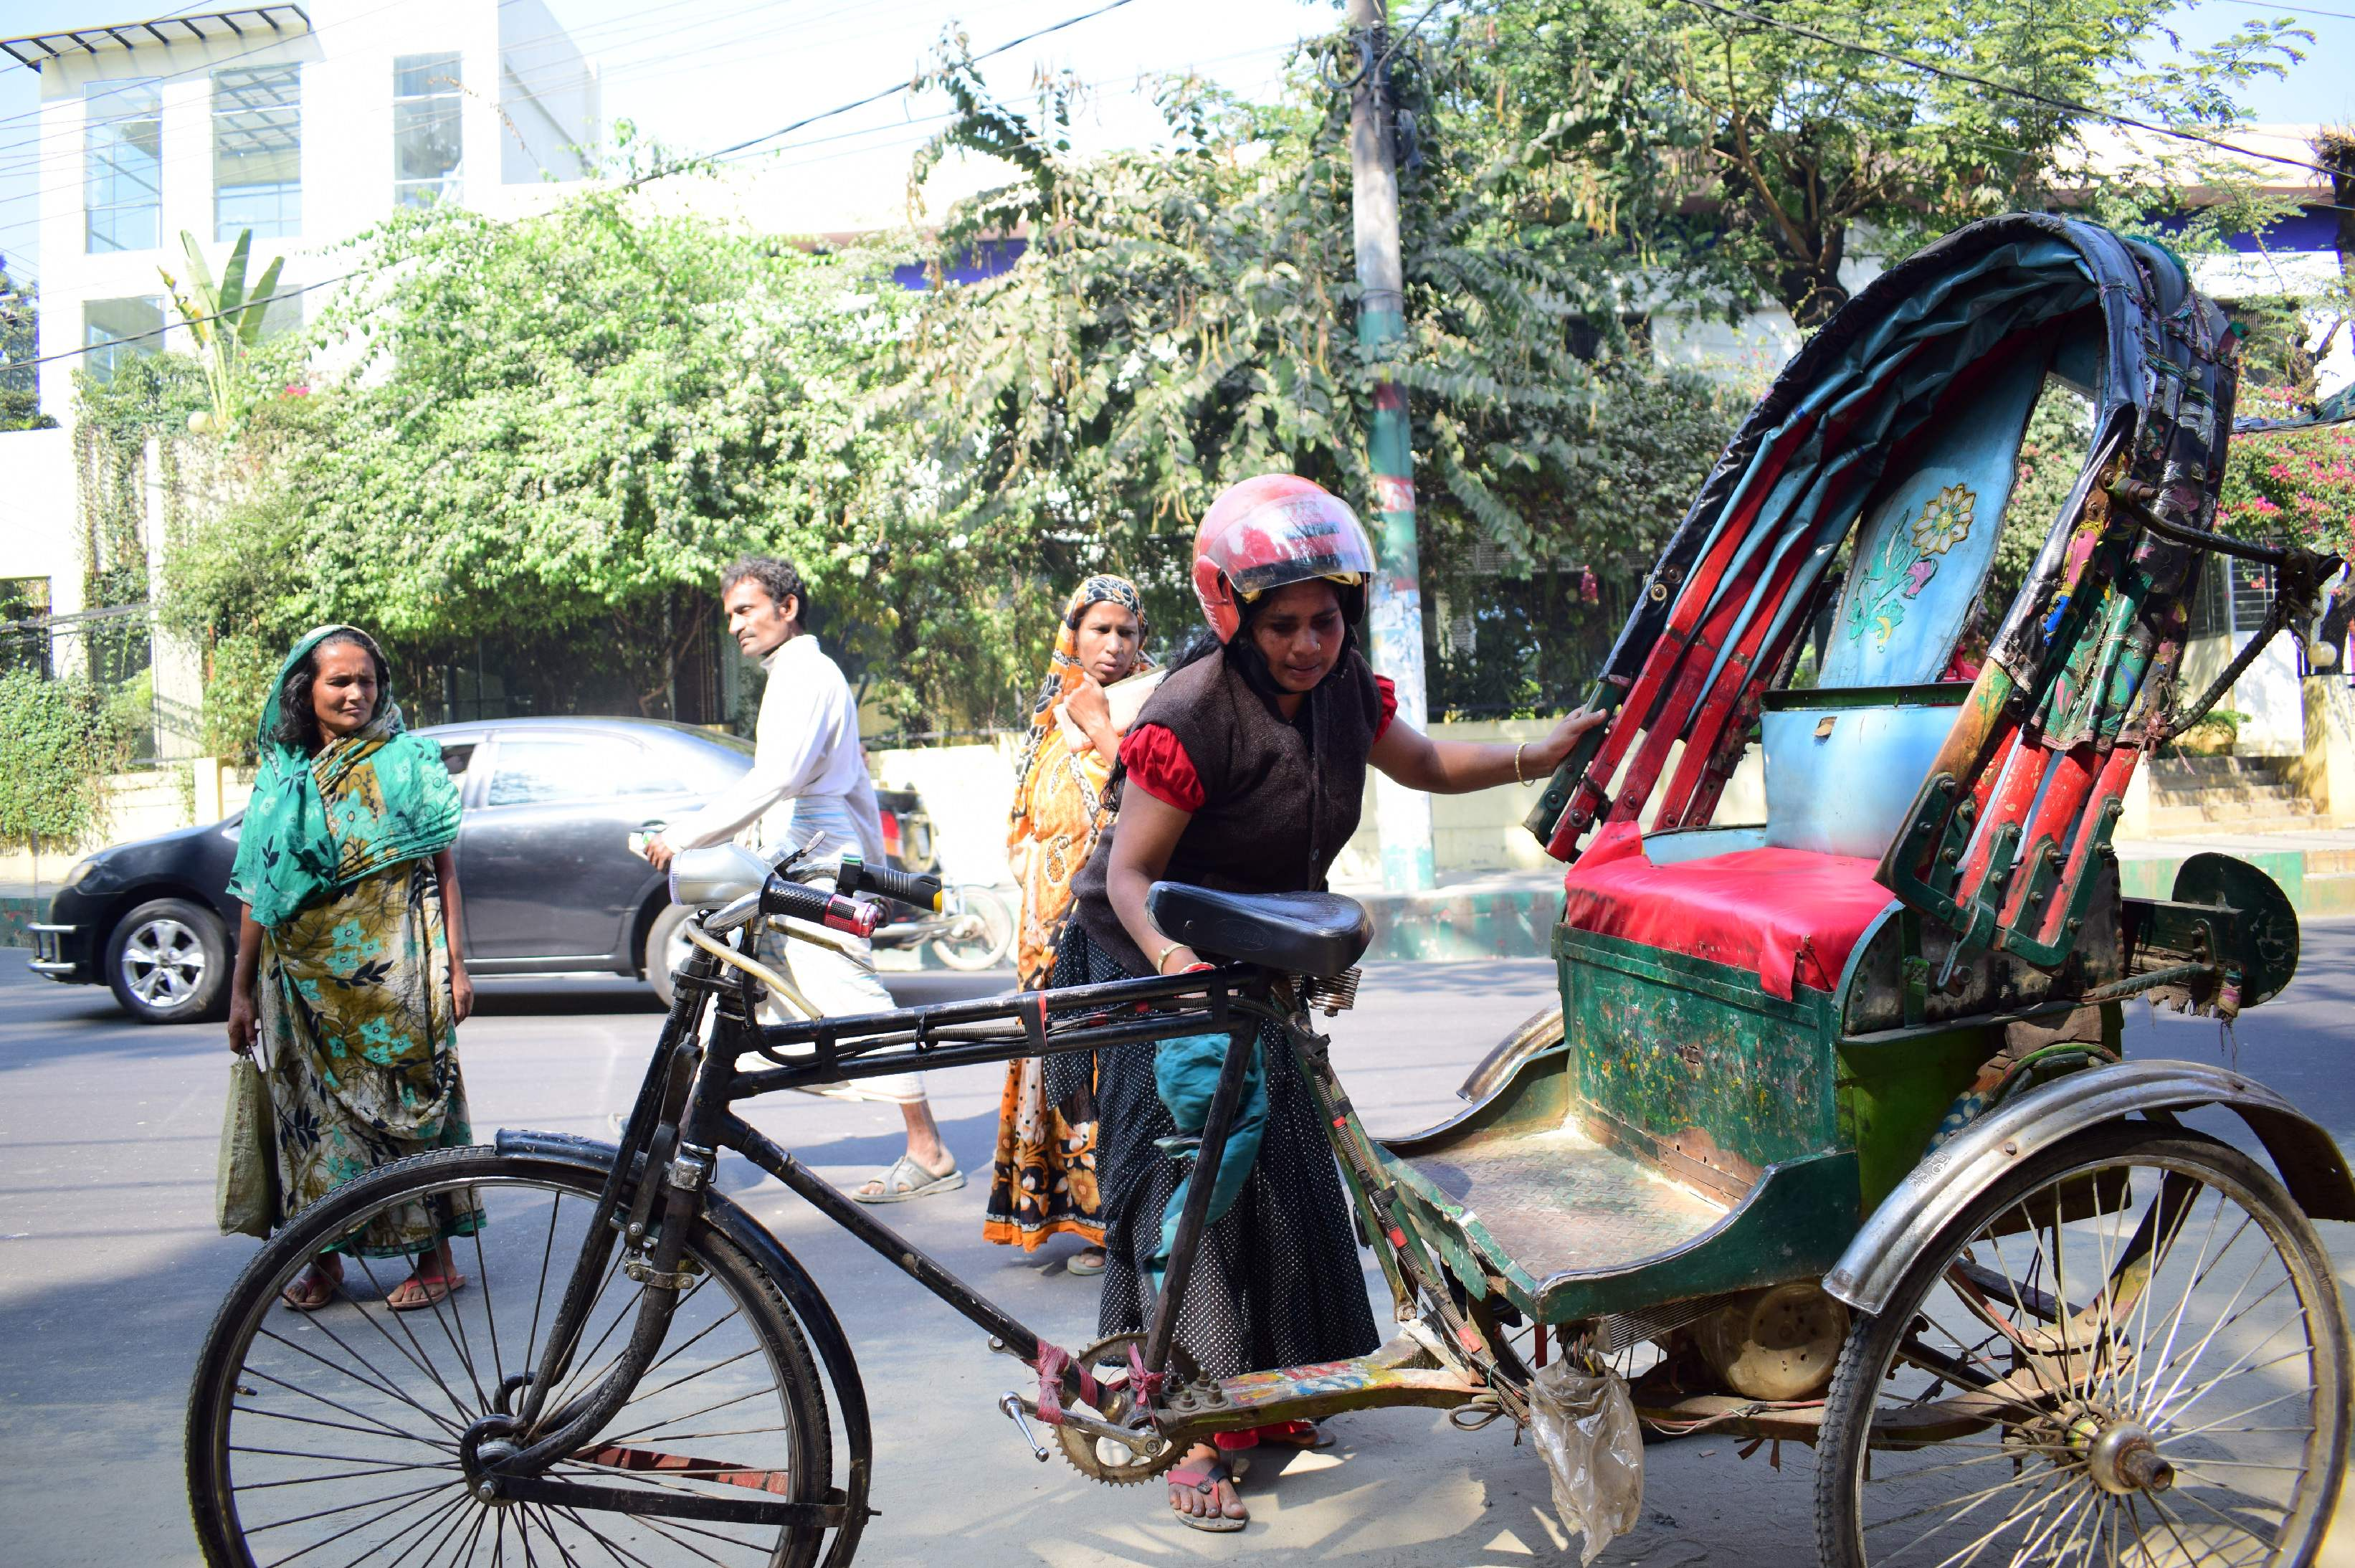Rickshaw: (236, 171, 2241, 1565)
